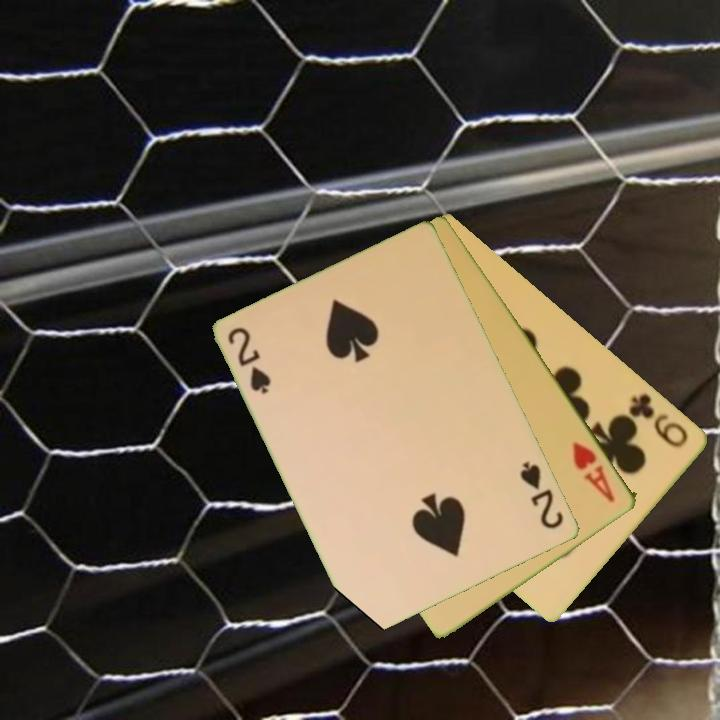2s: (517, 457, 567, 532), (224, 324, 275, 397)
9c: (625, 389, 692, 451)
Ah: (569, 438, 619, 506)
